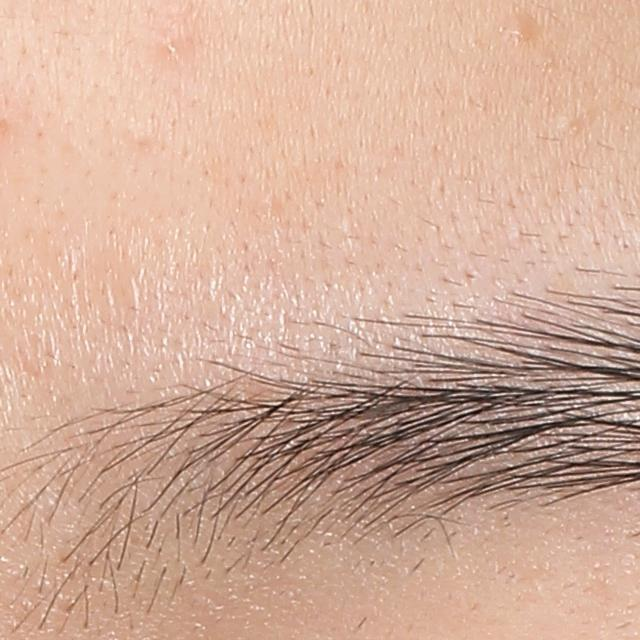comedo: (500, 14, 539, 46), (553, 110, 586, 138), (160, 37, 180, 61)
